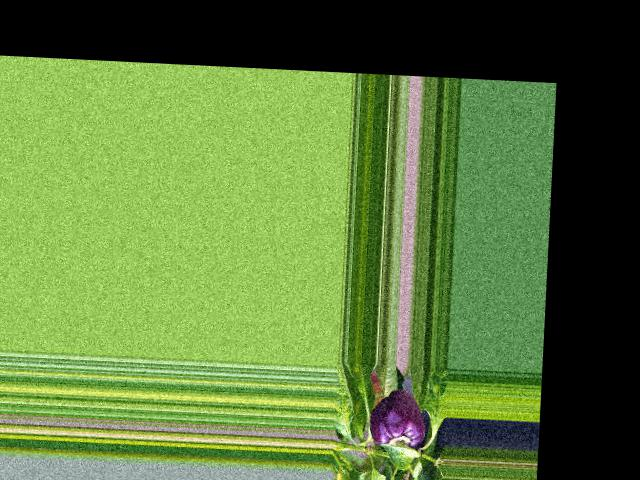bell_pepper: (366, 386, 427, 455)
